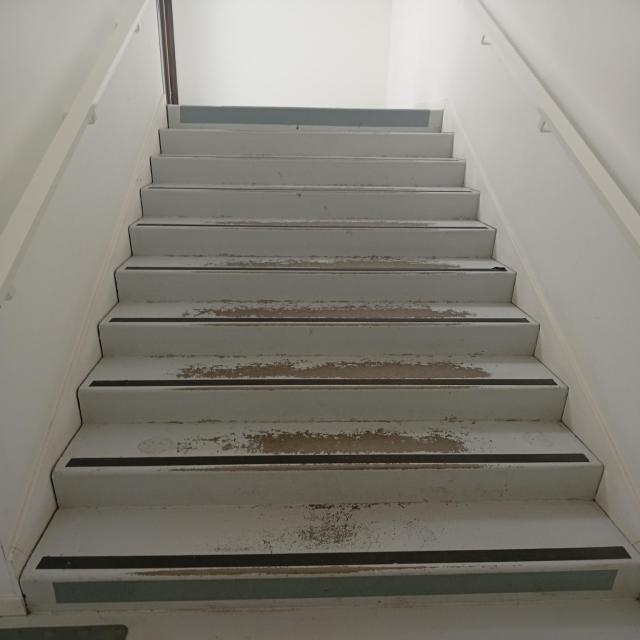Stairs: (9, 220, 640, 631)
